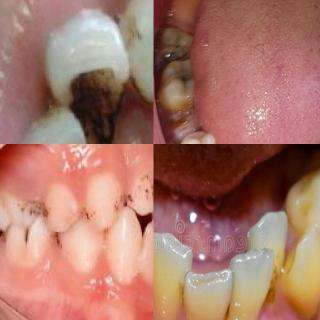cavities: (156, 61, 200, 100), (155, 29, 193, 68), (15, 224, 38, 252)
maligned: (47, 0, 131, 118), (99, 0, 153, 122), (230, 213, 289, 320), (219, 243, 277, 320), (153, 228, 195, 320), (105, 202, 142, 286), (178, 267, 235, 320), (289, 225, 320, 320), (16, 108, 96, 144), (126, 170, 154, 216), (140, 216, 154, 284), (171, 127, 222, 144)
stains: (118, 0, 153, 104), (79, 69, 123, 136), (253, 256, 294, 314), (171, 271, 193, 310), (217, 288, 235, 320), (134, 180, 154, 204), (18, 201, 47, 217), (113, 190, 131, 212), (0, 226, 14, 248), (153, 254, 161, 290), (50, 229, 66, 244), (80, 204, 94, 221)
